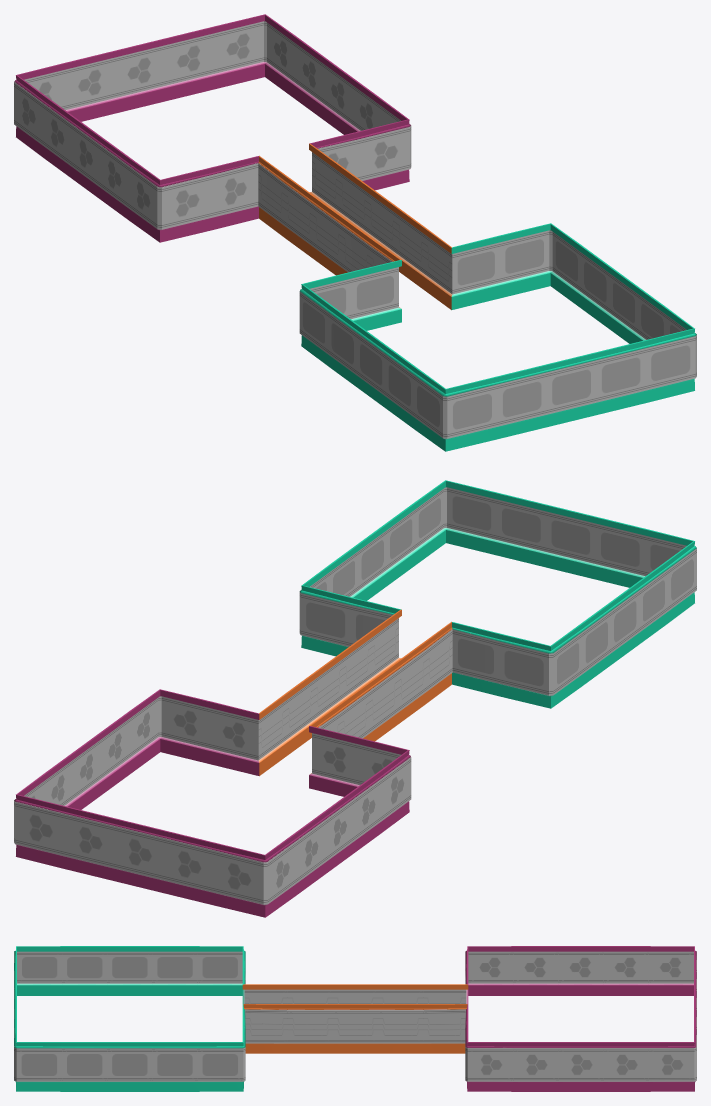
The model's file is Walls.FBX.
The picture shows the model from 3 angles, top to bottom: view 1: azimuth 30°, elevation 25°; view 2: azimuth 150°, elevation 25°; view 3: azimuth 270°, elevation 25°; orthographic projection. The views are drawn at different scales.
Parts seen in each view (by area): view 1: Walls; view 2: Walls; view 3: Walls.
Part boxes in pixels (x1,y1,x2,y2): Walls: (14, 14, 696, 451); Walls: (14, 480, 696, 917); Walls: (14, 946, 696, 1091).
Size of the model in its own units: 1541 by 360 by 4541.
